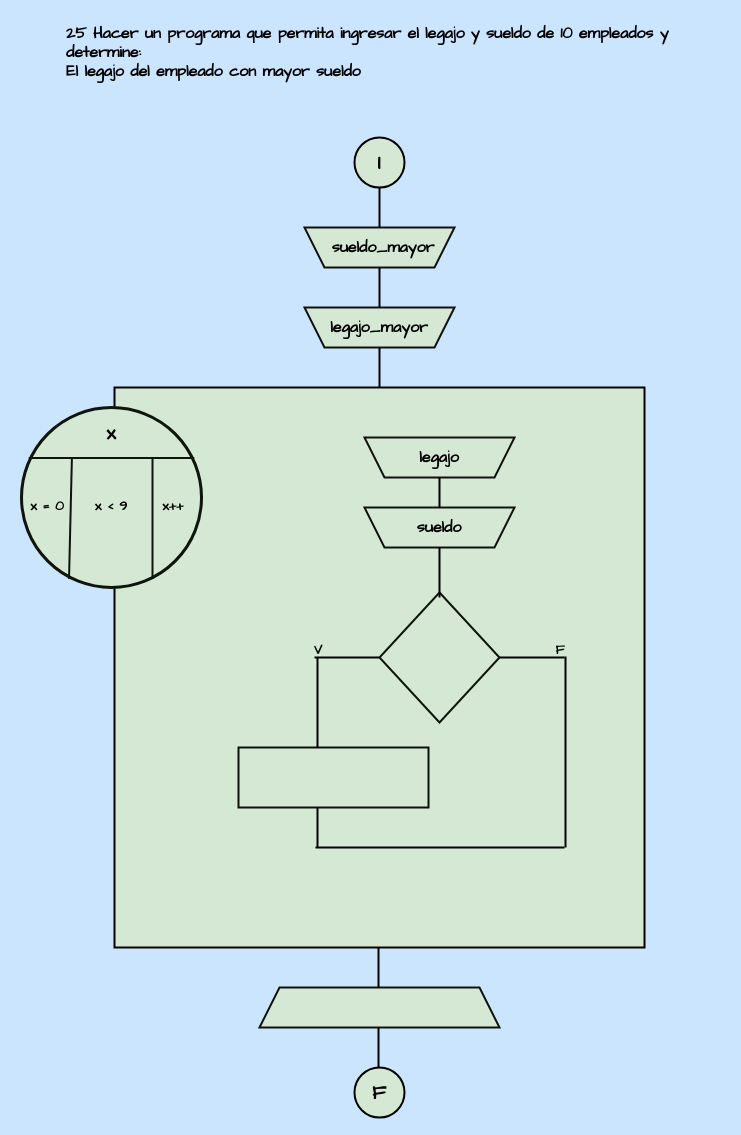
Image size: 741x1135. Some labels were removed from this diagram. Here are the shapes that lost their labels. From the top down, the box of each, then its label:
(378, 591, 500, 723): sueldo > sueldo_mayor
(237, 746, 429, 808): sueldo_mayor = sueldo legajo_mayor = legajo
(258, 986, 500, 1028): sueldo_mayor, legajo_mayor
